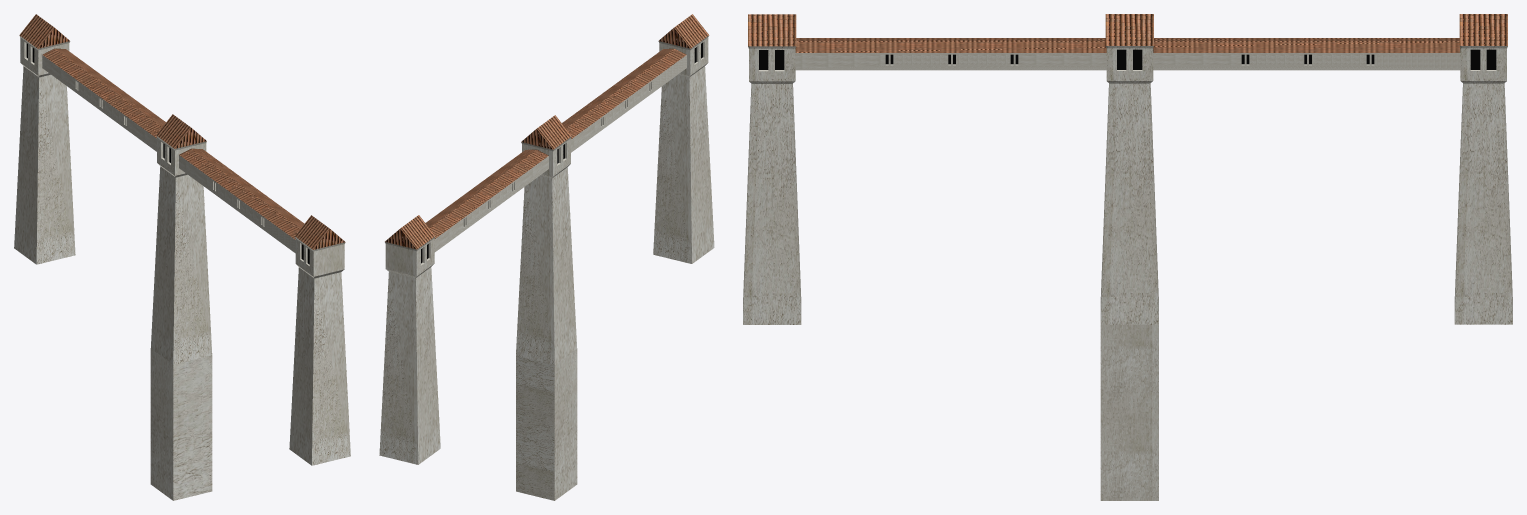
Rendered from boatbrigbettertextured.fbx.
The picture shows the model from 3 angles, left to right: view 1: azimuth 30°, elevation 25°; view 2: azimuth 150°, elevation 25°; view 3: azimuth 270°, elevation 25°; orthographic projection. The views are drawn at different scales.
Parts seen in each view (by area): view 1: Bridge; view 2: Bridge; view 3: Bridge.
Boxes of the visible parts, x1,y1,x2,y2 form: Bridge: (14,14,350,500); Bridge: (379,14,714,500); Bridge: (743,14,1512,500).
Bounding box in the file's own units: 499 × 4434 × 6513.
